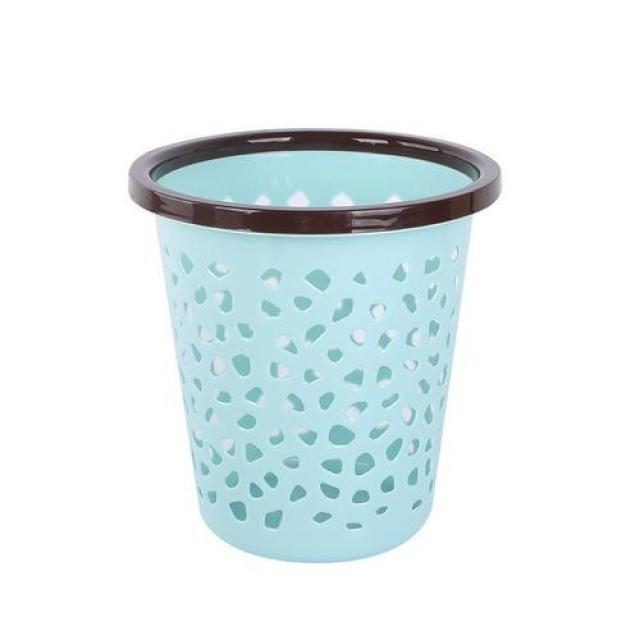dustbin: (125, 120, 507, 567)
